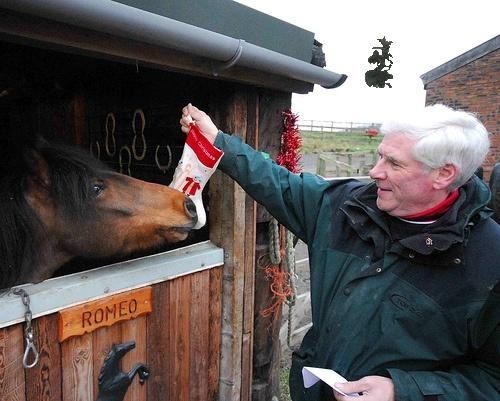tampered: (366, 37, 393, 88)
